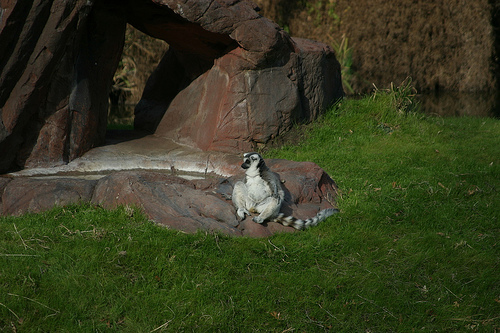cat: (229, 152, 340, 230)
